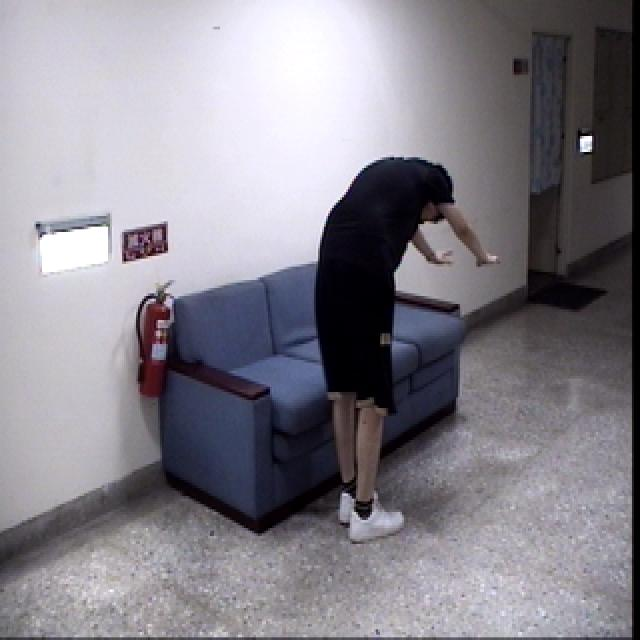bend: (304, 151, 523, 548)
